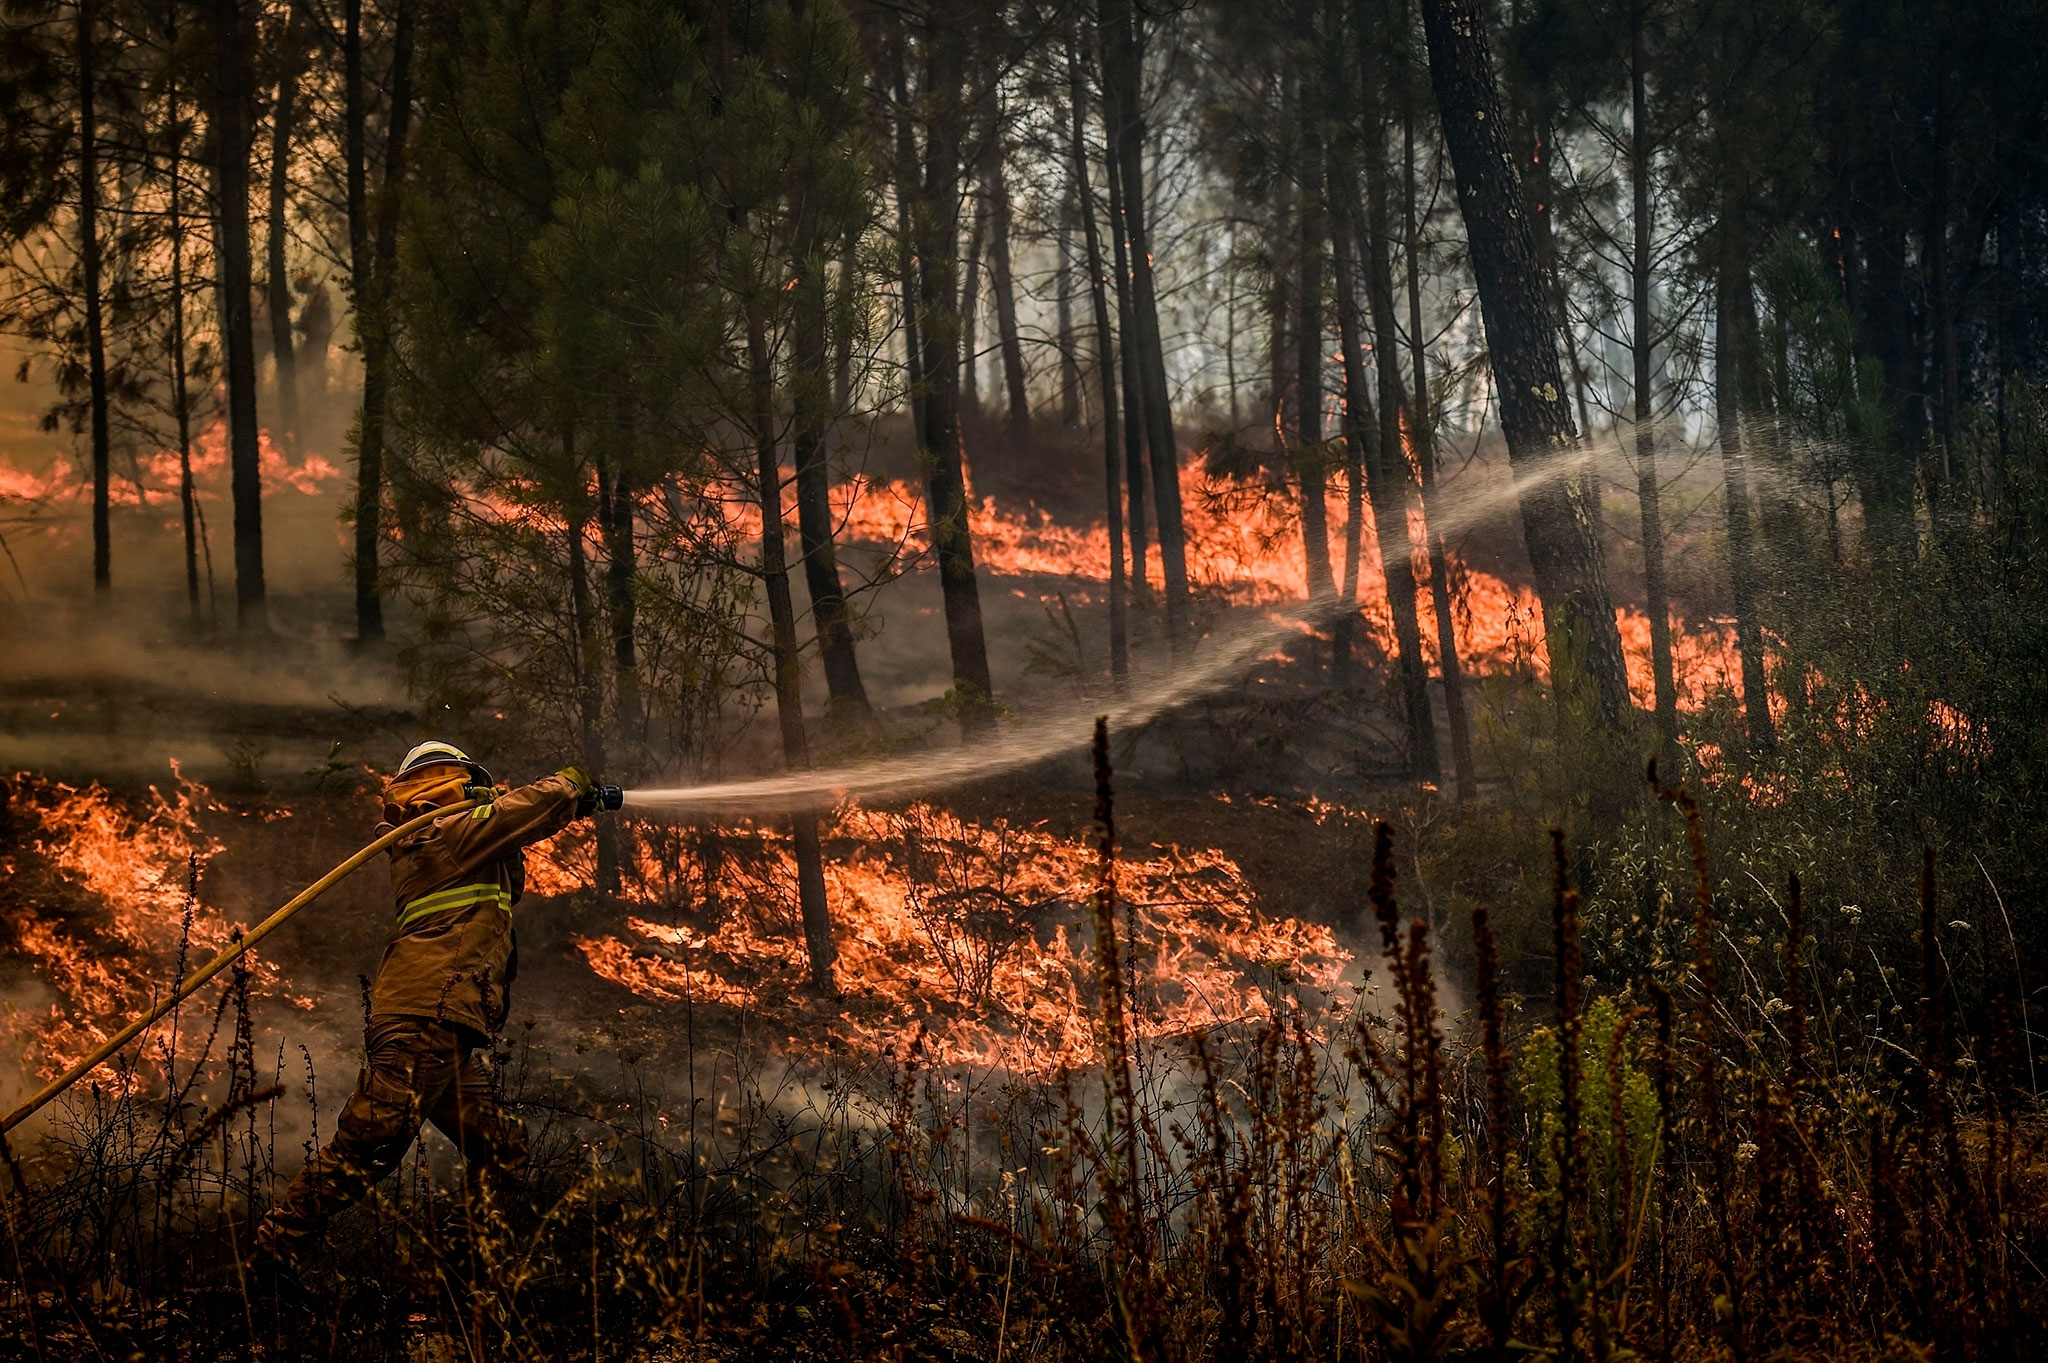fire: (664, 799, 1314, 1041), (14, 786, 263, 1098), (702, 452, 1306, 578), (1330, 478, 1542, 660), (1619, 608, 1776, 721)
